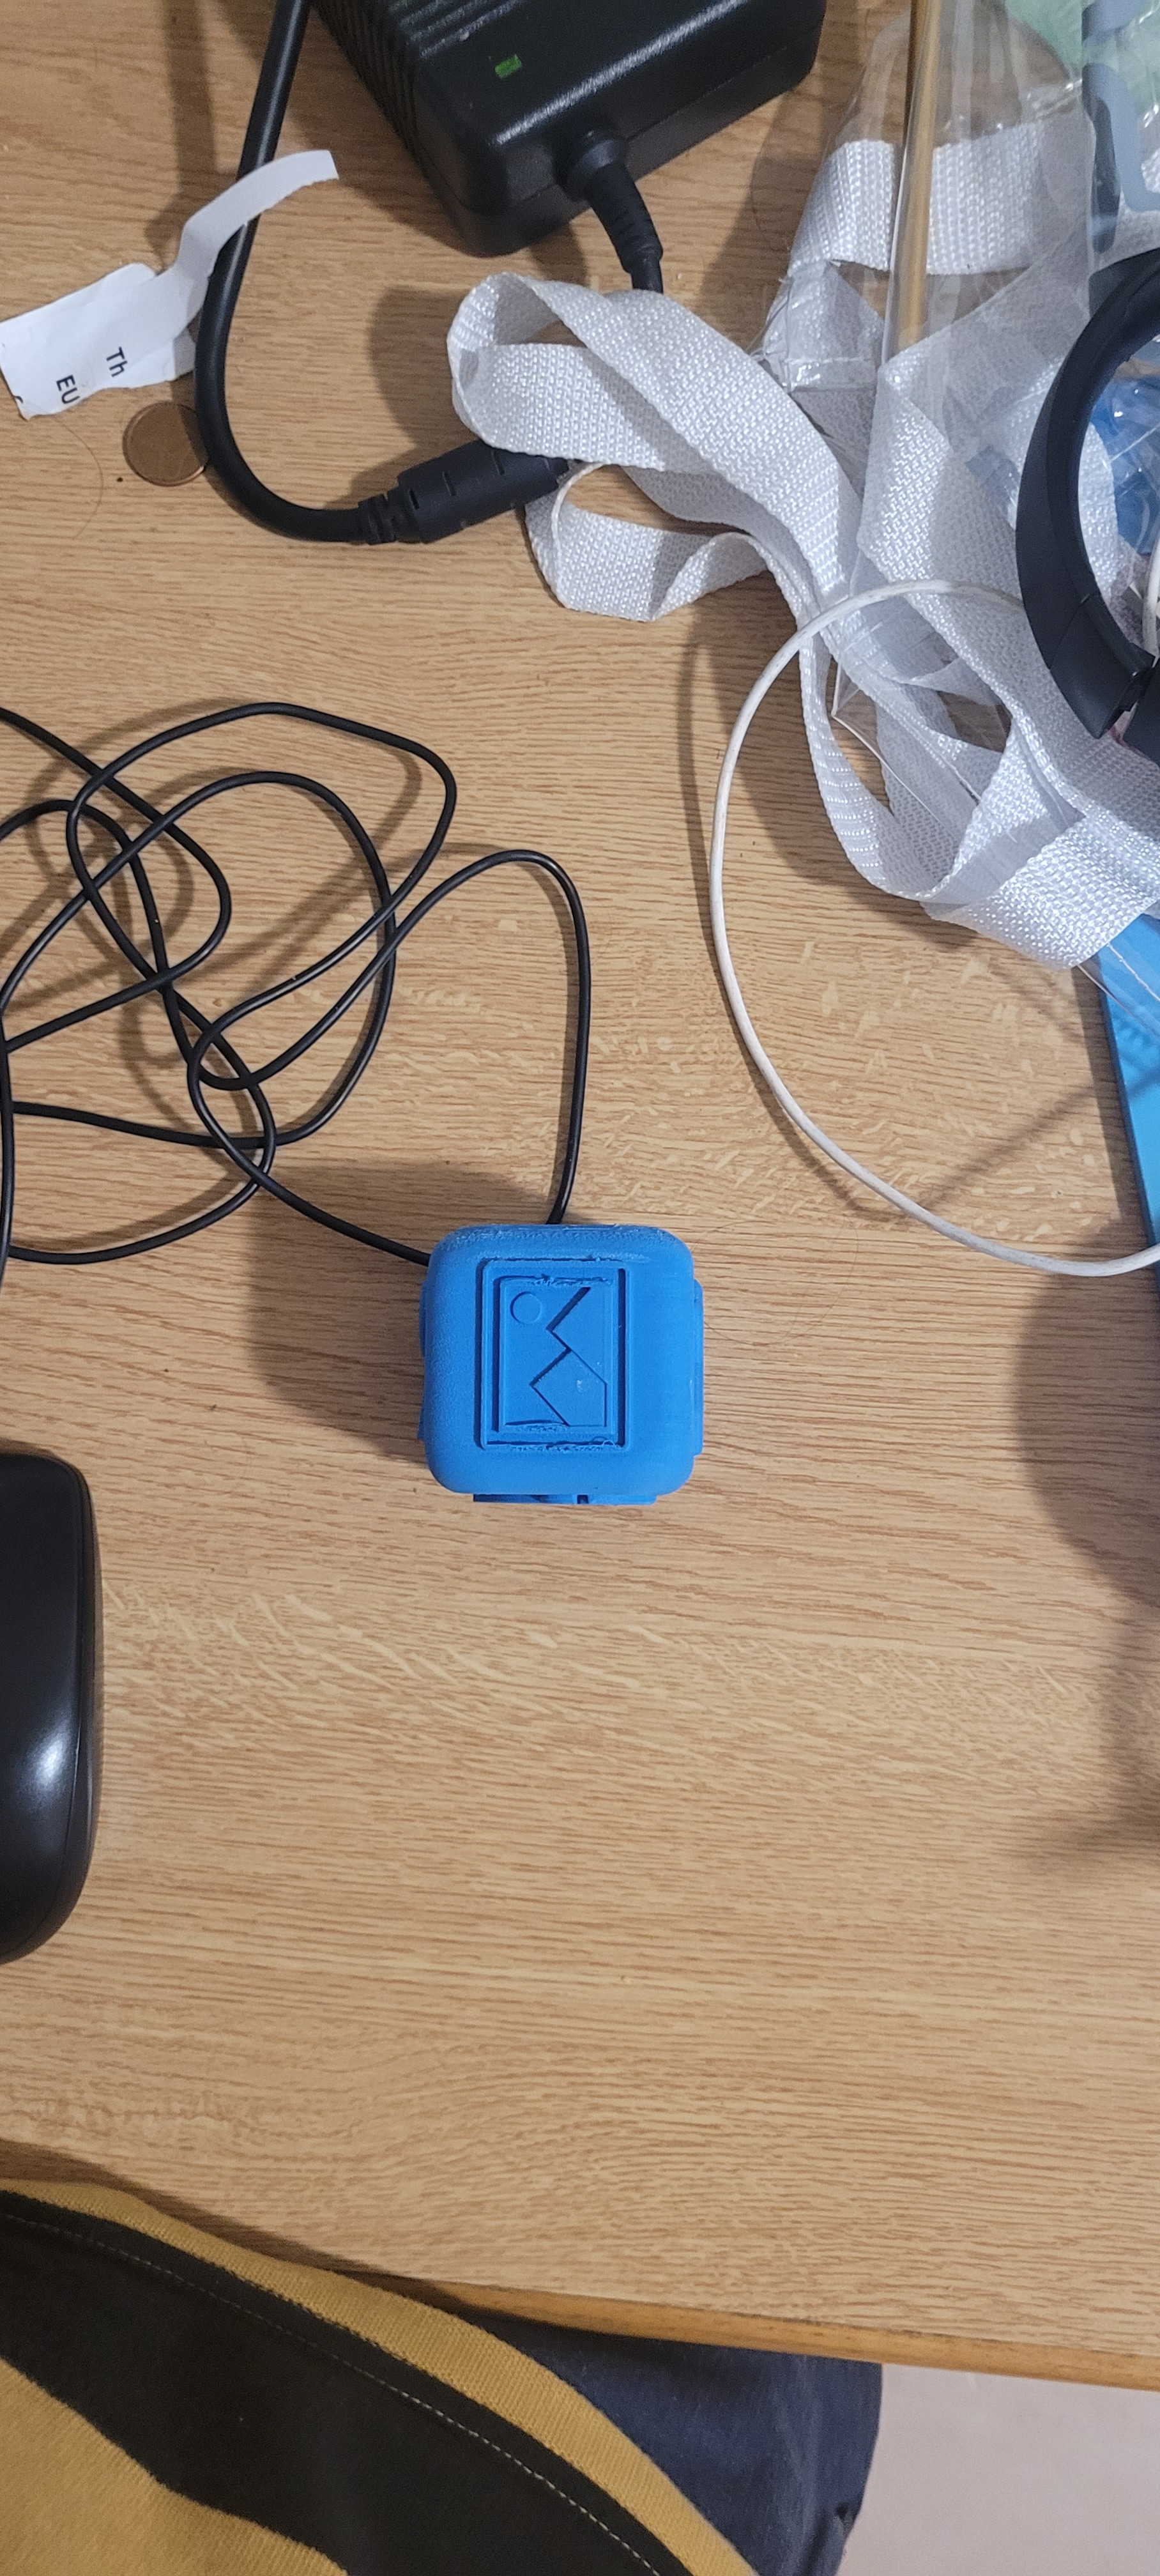Story: (457, 1242, 656, 1470)
